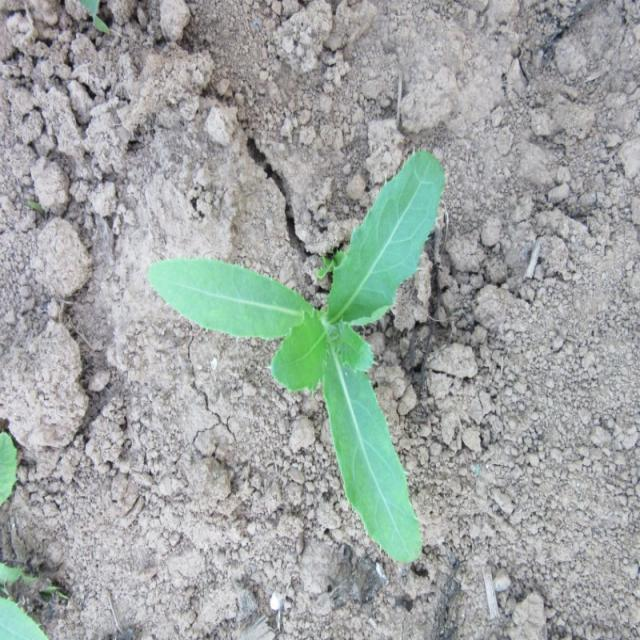cs: (145, 148, 448, 567)
